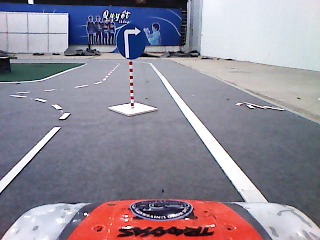turn: (114, 22, 147, 61)
